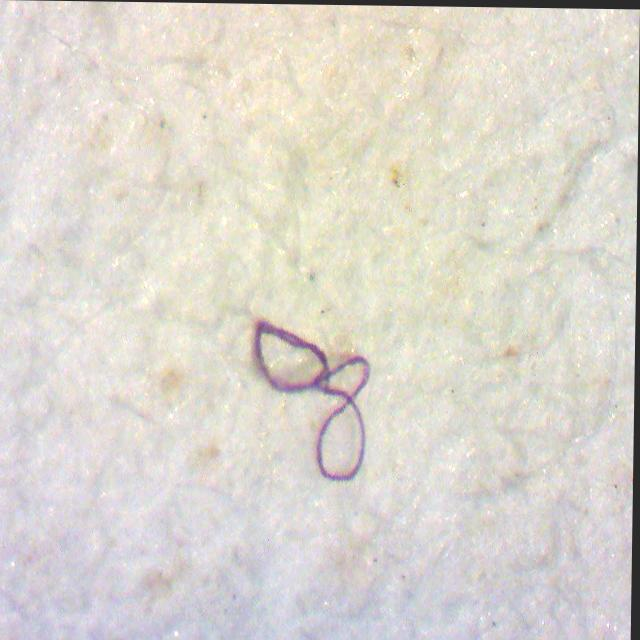microplastic: (251, 316, 380, 489)
